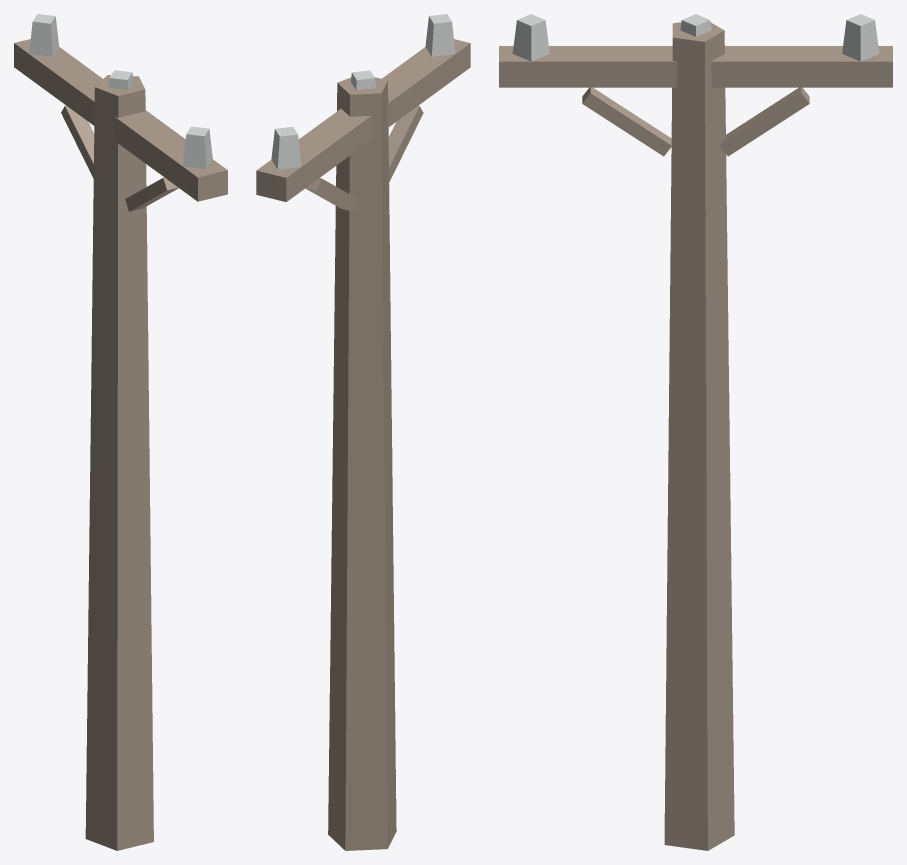
Rendered from prop_pole.glb.
The picture shows the model from 3 angles, left to right: view 1: azimuth 30°, elevation 25°; view 2: azimuth 150°, elevation 25°; view 3: azimuth 270°, elevation 25°; orthographic projection. The views are drawn at different scales.
Visible parts, largest first — view 1: prop_pole; view 2: prop_pole; view 3: prop_pole.
Boxes of the visible parts, x1=… form: prop_pole: x1=14, y1=14, x2=227, y2=850; prop_pole: x1=256, y1=14, x2=470, y2=850; prop_pole: x1=499, y1=14, x2=892, y2=850.
Size of the model in its own units: 0.0514 by 0.628 by 0.275.
